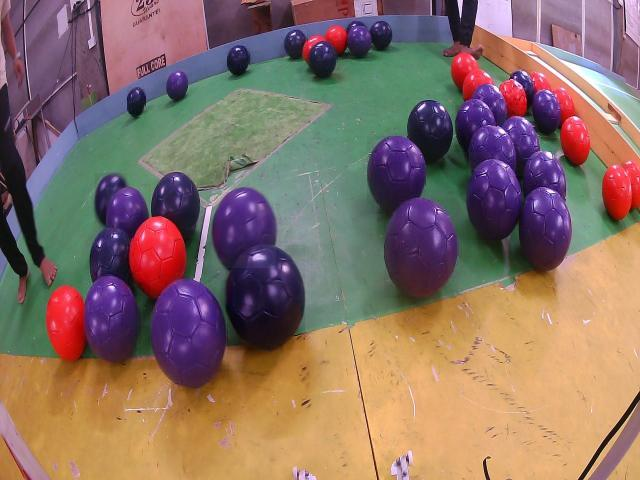jambhalya: (151, 278, 227, 387), (385, 199, 458, 298), (213, 187, 276, 268), (84, 275, 139, 362), (367, 136, 425, 214), (467, 160, 522, 240), (519, 188, 571, 270), (503, 116, 540, 176), (456, 98, 497, 152), (106, 187, 149, 238), (469, 125, 516, 171), (523, 152, 567, 199), (472, 85, 508, 125), (533, 90, 561, 133), (348, 26, 372, 57), (166, 70, 189, 100)
kaalyya: (226, 245, 305, 350), (151, 172, 200, 238), (408, 100, 452, 163), (90, 226, 133, 284), (95, 174, 126, 223), (308, 40, 337, 78), (510, 70, 535, 105), (227, 45, 249, 75), (285, 30, 307, 58), (370, 22, 392, 49), (127, 88, 145, 117), (346, 20, 366, 32)
